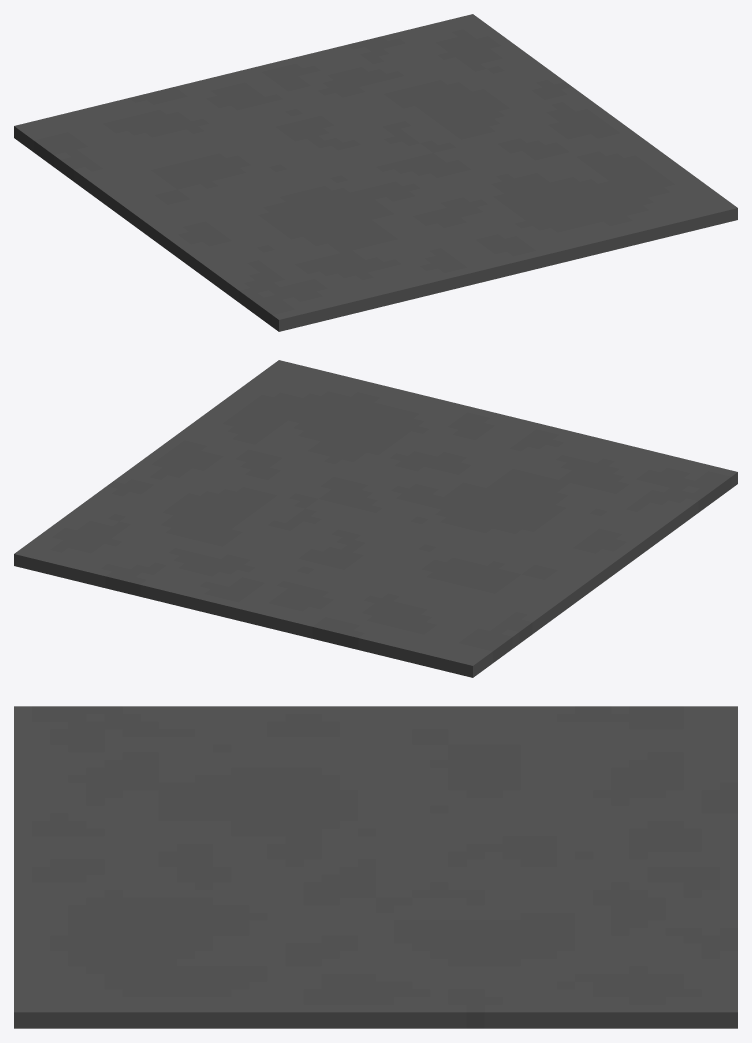
The model's file is ConcreteGround.obj.
The picture shows the model from 3 angles, top to bottom: view 1: azimuth 30°, elevation 25°; view 2: azimuth 150°, elevation 25°; view 3: azimuth 270°, elevation 25°; orthographic projection. The views are drawn at different scales.
Parts seen in each view (by area): view 1: ConcreteGround; view 2: ConcreteGround; view 3: ConcreteGround.
Part boxes in pixels (x1=…): ConcreteGround: x1=14, y1=14, x2=737, y2=331; ConcreteGround: x1=14, y1=360, x2=737, y2=677; ConcreteGround: x1=14, y1=706, x2=737, y2=1028.
Size of the model in its own units: 40 by 1 by 40.
1 material, 1 textured.
